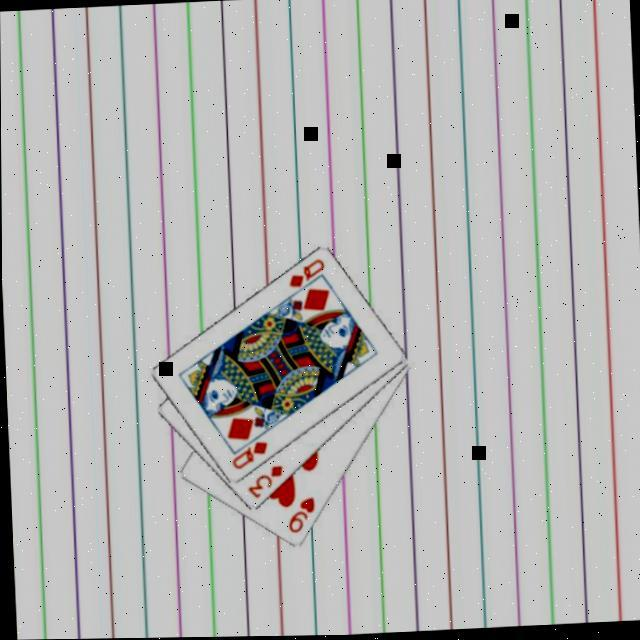3D: (243, 462, 286, 502)
9H: (284, 494, 318, 536)
QD: (284, 255, 328, 291), (227, 437, 270, 471)
